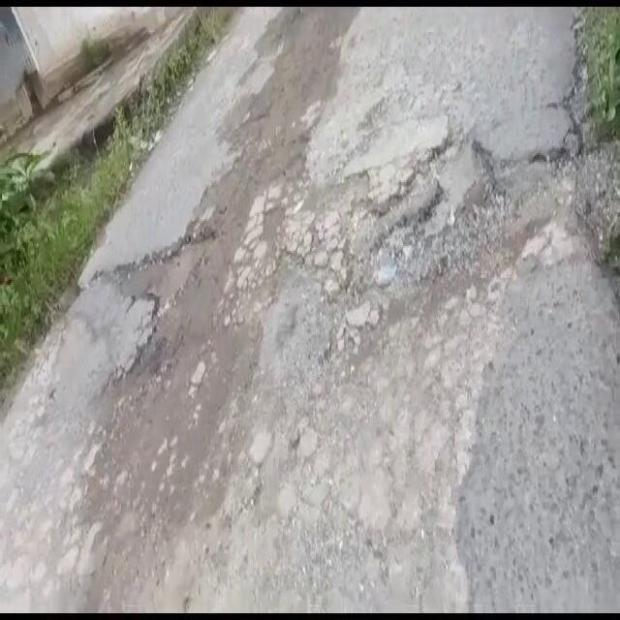lubang: (78, 129, 619, 379)
